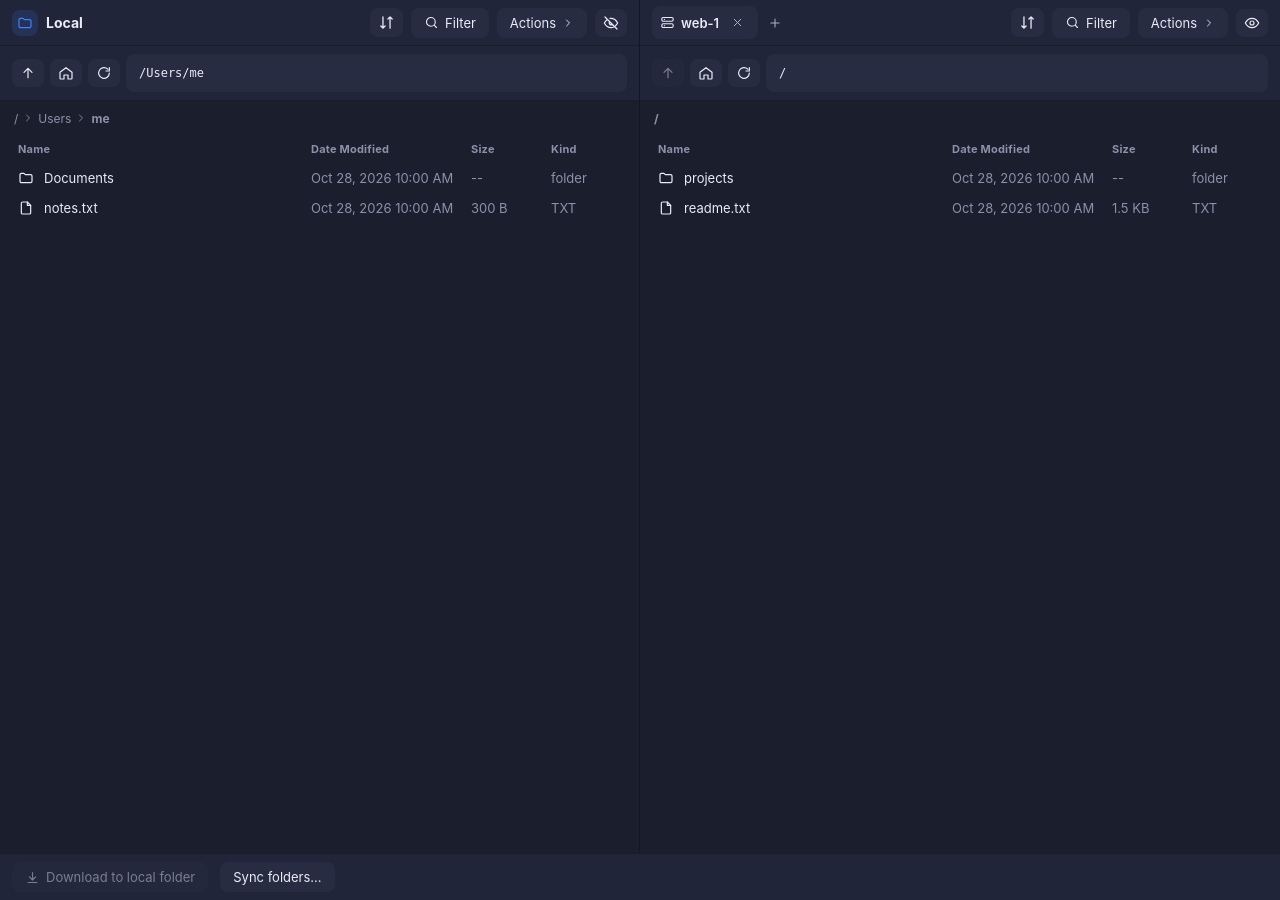
Scenario: SftpBrowser: two panes › shows an error and restores the path when a folder does not exist
Replace the text in the field named "Local path" with "/nope" at (376,73), box [126,54,627,92]
Then press Enter
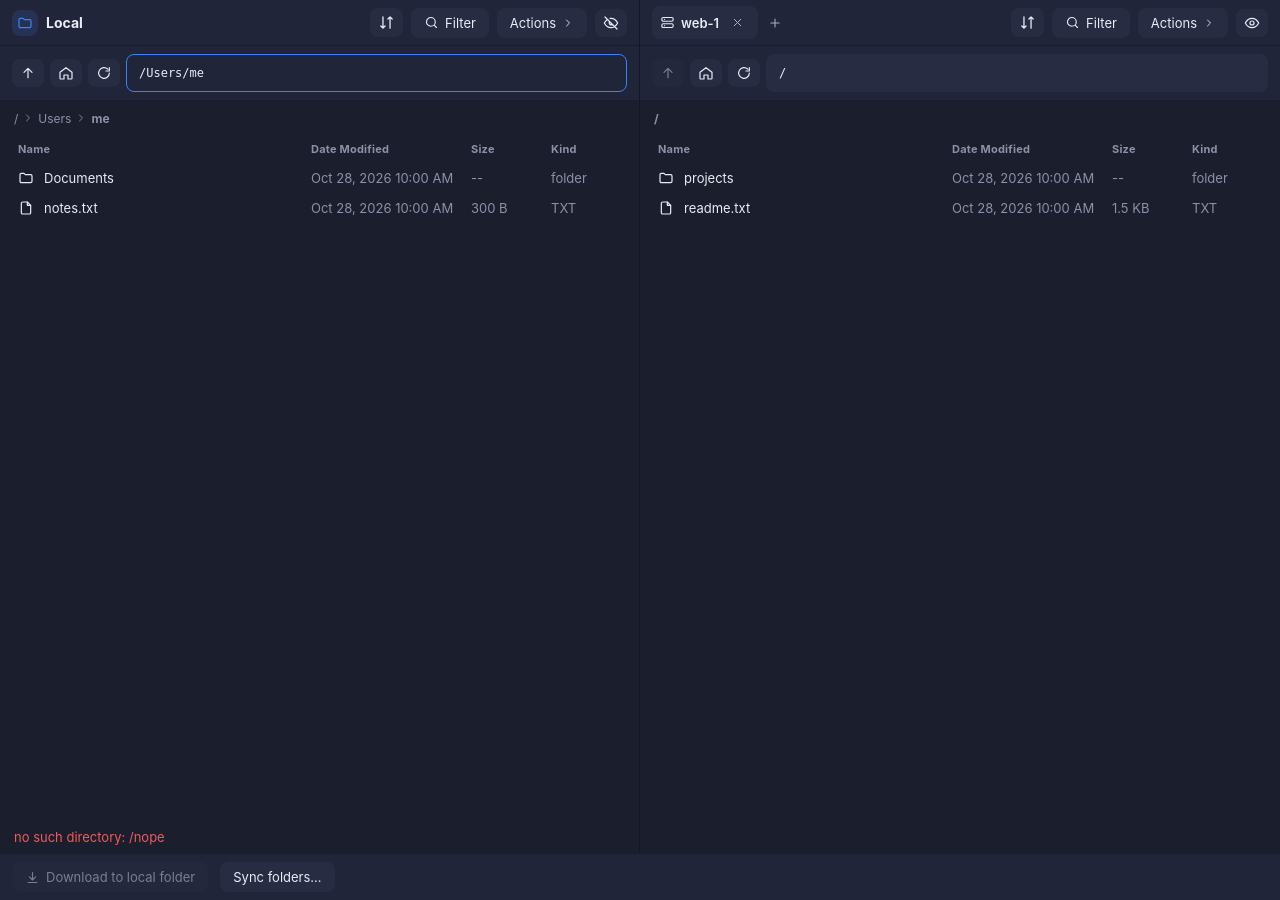
Expected: the message shows "no such directory", [14,829,165,845]
